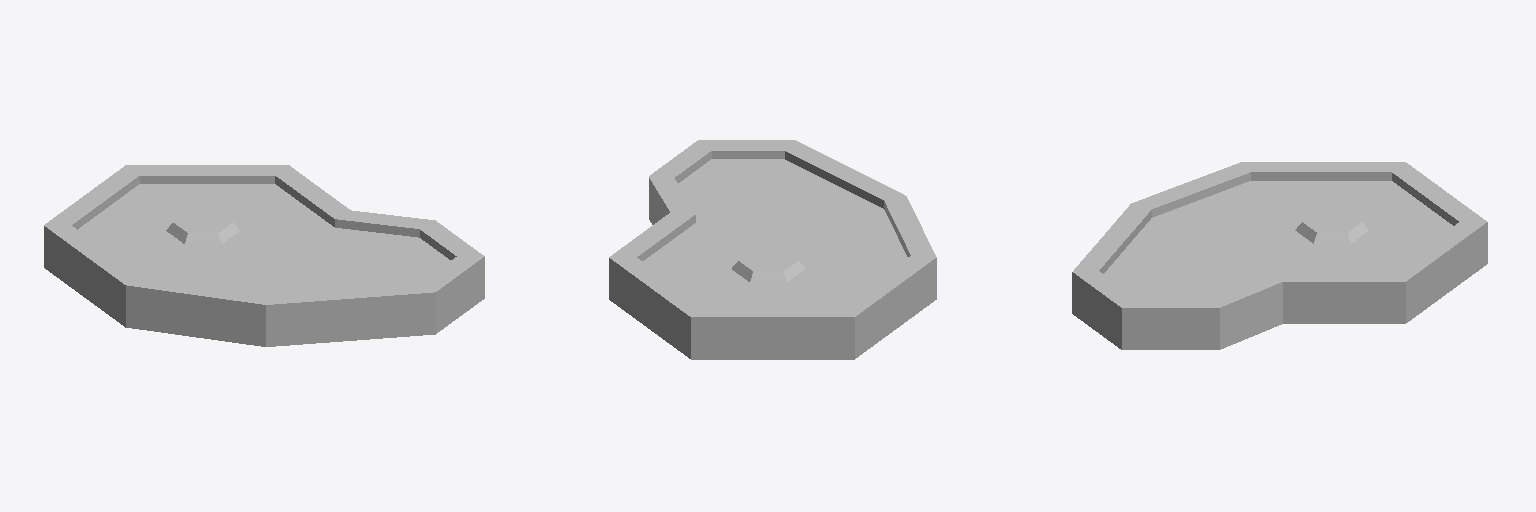
File: meat-raw.obj
The picture shows the model from 3 angles: view 1: azimuth 30°, elevation 25°; view 2: azimuth 150°, elevation 25°; view 3: azimuth 270°, elevation 25°; orthographic projection.
Visible parts, largest first — view 1: meat-raw; view 2: meat-raw; view 3: meat-raw.
Boxes of the visible parts, <box> form: meat-raw: <box>44,165,484,346</box>; meat-raw: <box>609,140,936,359</box>; meat-raw: <box>1072,162,1487,349</box>.
Size of the model in its own units: 0.4785 by 0.0645 by 0.5754.